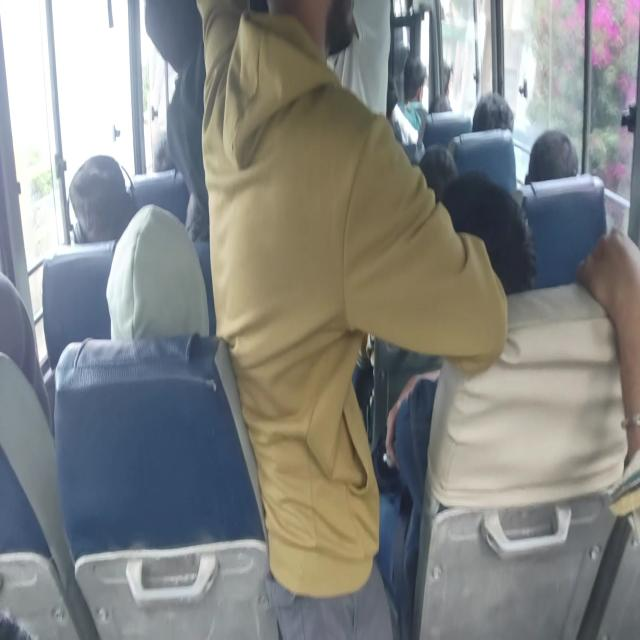person: (206, 5, 384, 609), (446, 184, 536, 322), (115, 228, 205, 350), (340, 0, 388, 125), (68, 158, 128, 239), (523, 111, 581, 192), (0, 274, 48, 364), (412, 144, 464, 212), (396, 56, 435, 130), (473, 93, 515, 138), (146, 137, 192, 177), (429, 56, 458, 86)
